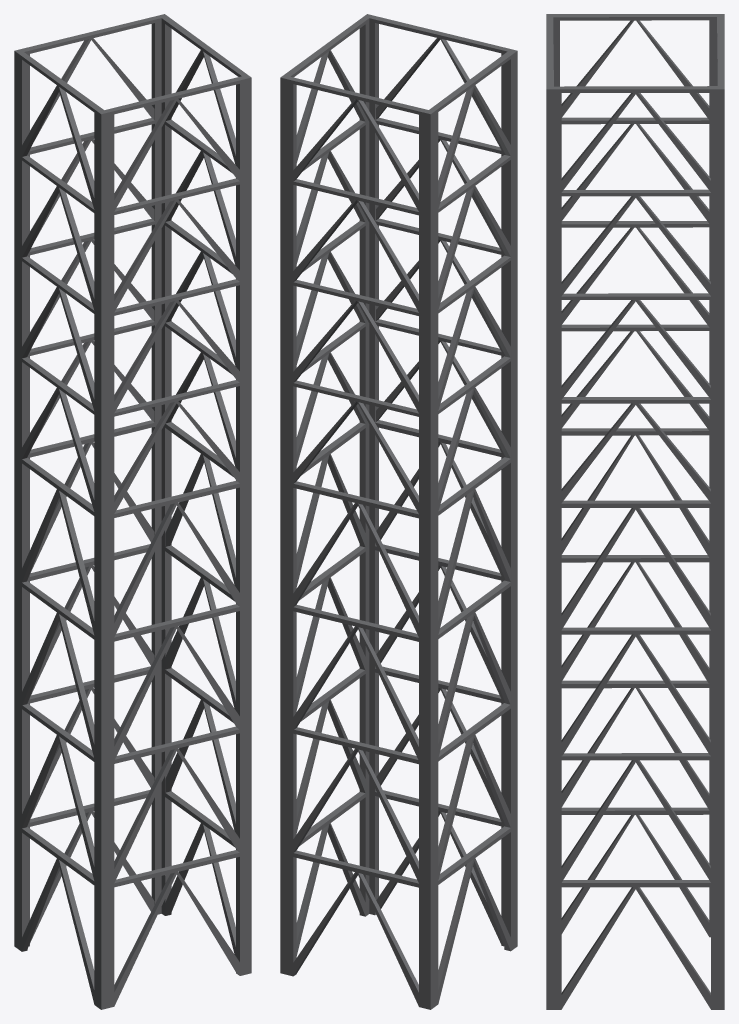
Rendered from Antenna Tower 2.fbx.
The picture shows the model from 3 angles, left to right: view 1: azimuth 30°, elevation 25°; view 2: azimuth 150°, elevation 25°; view 3: azimuth 270°, elevation 25°; orthographic projection. The views are drawn at different scales.
Visible parts, largest first — view 1: Antenna_Tower_Base; view 2: Antenna_Tower_Base; view 3: Antenna_Tower_Base.
Part boxes in pixels (x1,y1,x2,y2): Antenna_Tower_Base: [14, 14, 251, 1009]; Antenna_Tower_Base: [280, 14, 517, 1009]; Antenna_Tower_Base: [546, 14, 724, 1009].
Bounding box in the file's own units: 136 × 773 × 136.
